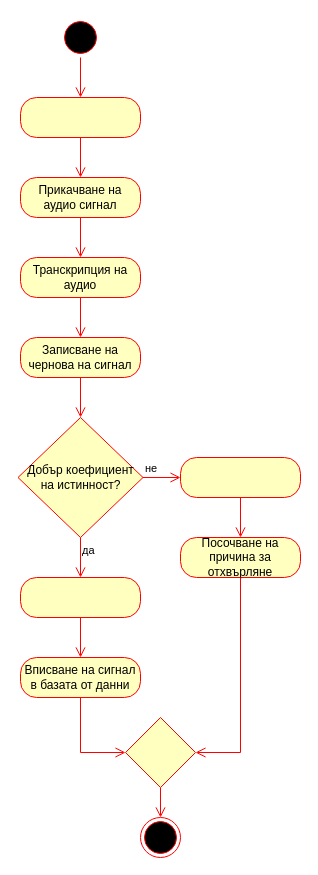
Image size: 318x875. Some labels were removed from this diagram. Here are the shapes that lost their labels. From the top down, the centre of each, then its label:
the point at 80,117: Влизане в системата
the point at 240,477: Отхвърляне на чернова
the point at 80,597: Одобрение на чернова
